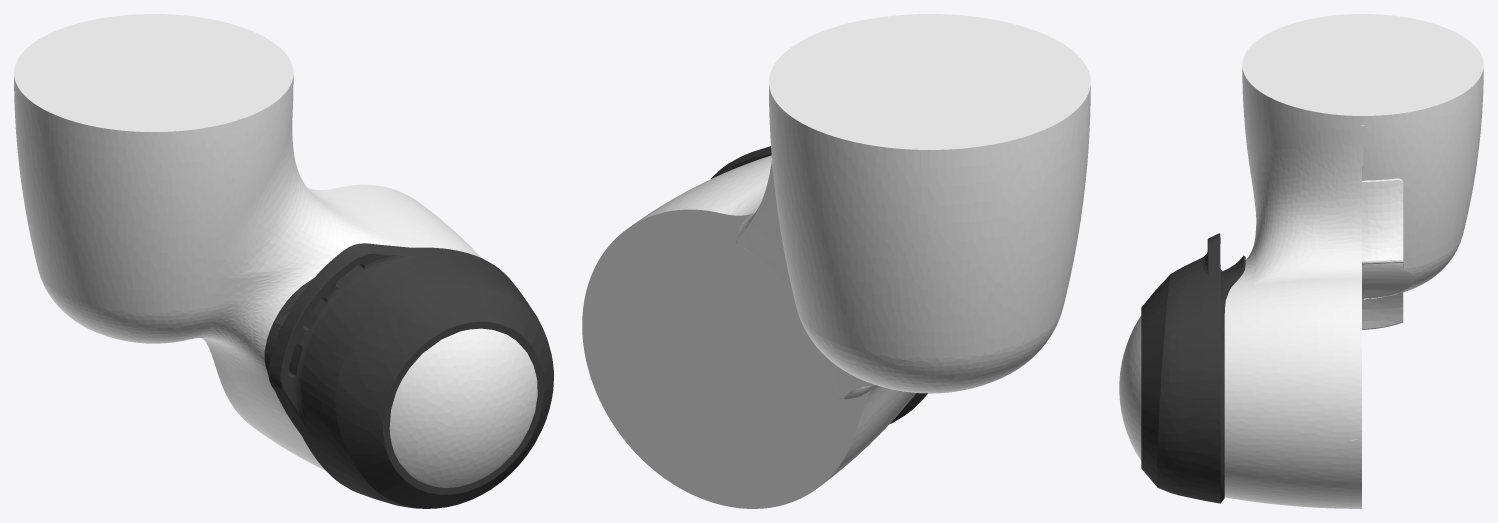
3 renders of one model, left to right at view 1: azimuth 30°, elevation 25°; view 2: azimuth 150°, elevation 25°; view 3: azimuth 270°, elevation 25°, orthographic. The views are drawn at different scales.
Parts seen in each view (by area): view 1: node2, node1; view 2: node2, node3, node0, node1; view 3: node2, node1, node3, node0.
Boxes of the visible parts, x1,y1,x2,y2 form: node2: [14, 14, 537, 487]; node1: [264, 243, 553, 508]; node2: [582, 14, 1090, 508]; node3: [736, 161, 792, 290]; node0: [831, 361, 875, 399]; node1: [711, 146, 927, 423]; node2: [1119, 14, 1483, 508]; node1: [1141, 233, 1245, 503]; node3: [1362, 178, 1403, 269]; node0: [1362, 292, 1403, 329].
Bounding box in the file's own units: 0.1925 × 0.179 × 0.1661.
1 material, 1 textured.
